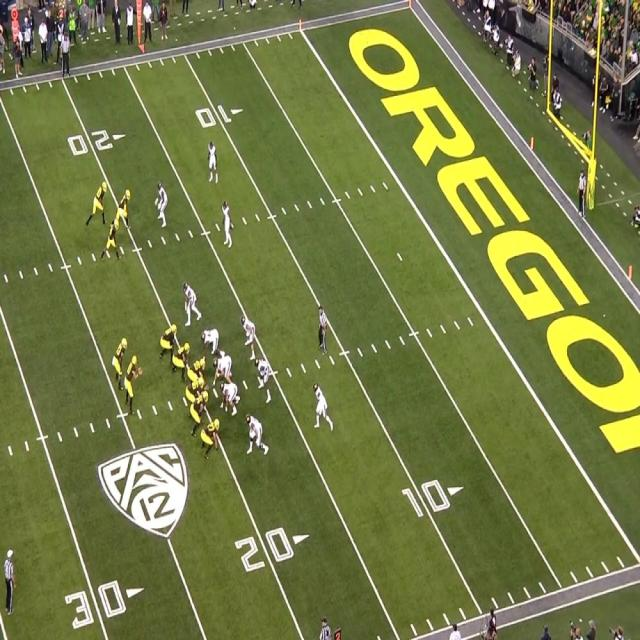center: (189, 356, 210, 392)
db: (313, 382, 333, 432), (221, 203, 235, 249), (208, 139, 220, 187), (156, 178, 167, 224)
lb: (252, 356, 274, 404), (246, 416, 268, 456), (242, 314, 258, 356), (184, 284, 200, 324)
qb: (128, 356, 140, 411)
